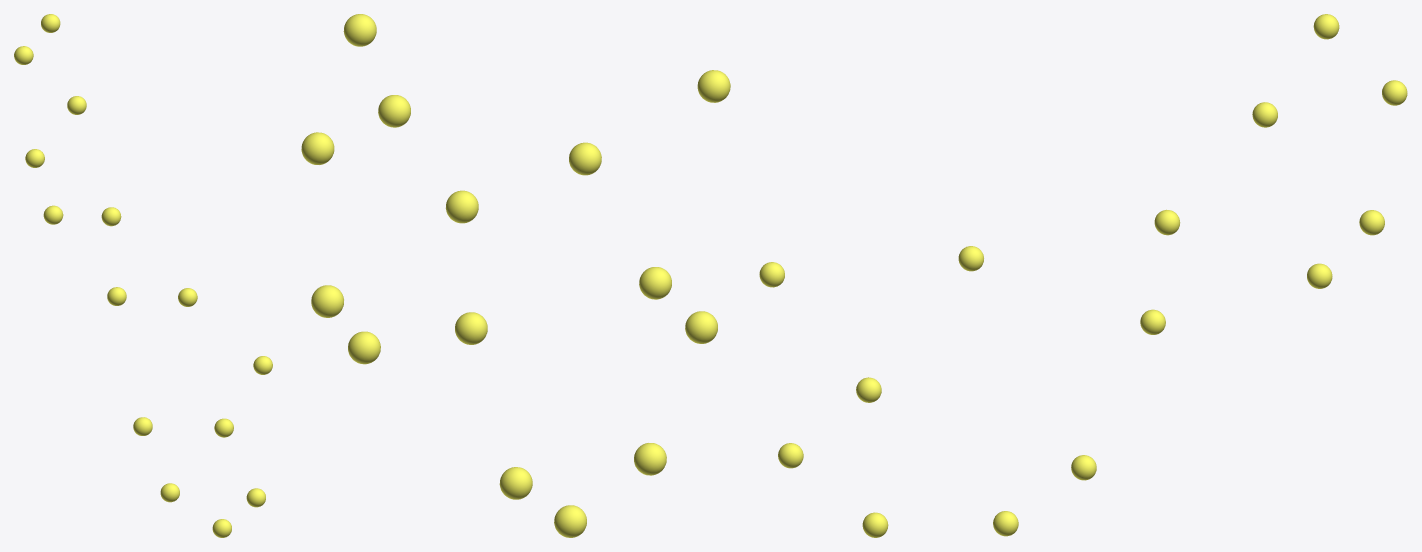
Rendered from scorpio.dae.
3 renders of one model, left to right at view 1: azimuth 30°, elevation 25°; view 2: azimuth 150°, elevation 25°; view 3: azimuth 270°, elevation 25°, orthographic. The views are drawn at different scales.
Visible parts, largest first — view 1: no part large enough to name; view 2: 元件_2 (×14); view 3: no part large enough to name.
Boxes of the visible parts, box(x1,y1,x2,y2) form: 元件_2 (×14): box(301, 14, 730, 537).
Size of the model in its own units: 3.58 by 68.47 by 60.79.
